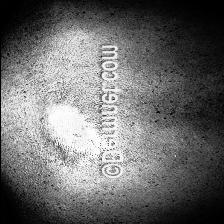Unclassified: (24, 97, 100, 161)
